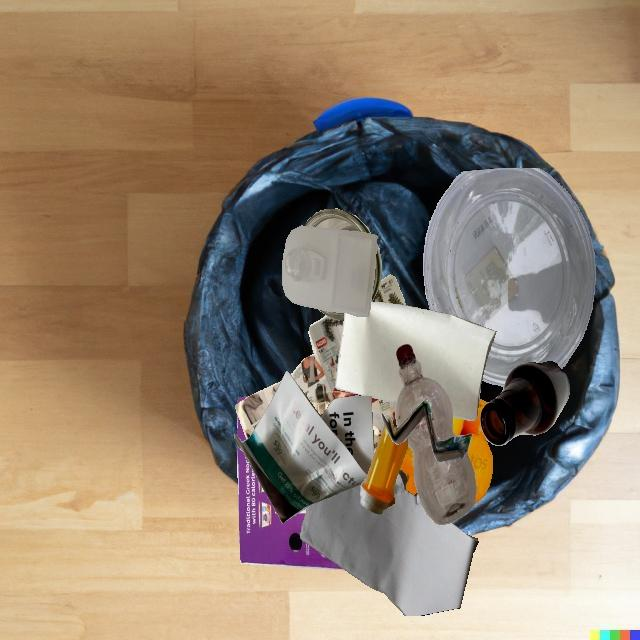biowaste: (453, 399, 493, 504), (399, 446, 418, 495)
cardboard: (237, 444, 346, 570), (381, 400, 472, 462), (248, 397, 345, 441)
glass: (480, 361, 570, 446), (324, 228, 376, 312)
paper: (300, 470, 478, 616), (234, 371, 374, 523), (335, 302, 496, 421), (297, 335, 366, 415), (348, 302, 394, 403), (235, 381, 281, 439)
plastic: (423, 168, 596, 386), (282, 225, 377, 317), (407, 418, 477, 525), (395, 344, 456, 441), (360, 424, 408, 515)
